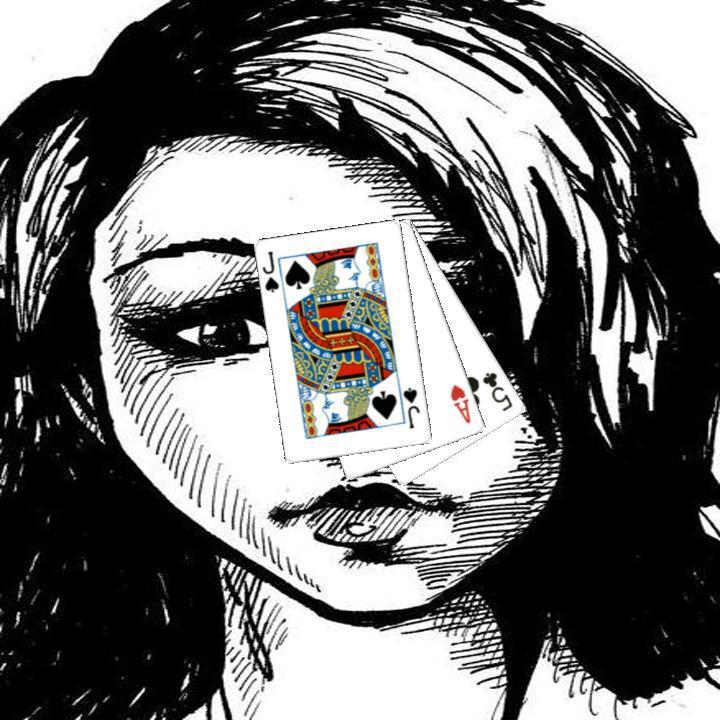5: (478, 368, 515, 413)
A: (446, 380, 473, 426)
J: (399, 383, 422, 431), (258, 247, 281, 295)
